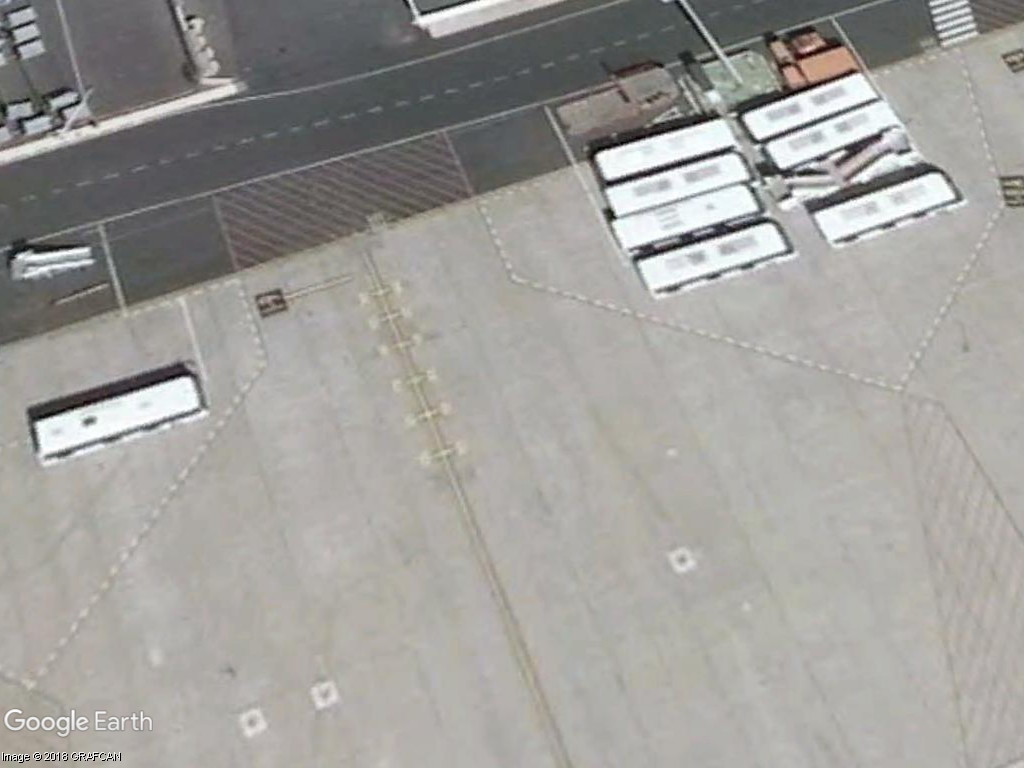bus: (25, 361, 217, 465), (626, 221, 799, 296), (731, 70, 896, 143), (583, 116, 742, 186)
stairtruck: (827, 124, 926, 187), (1, 237, 97, 286), (757, 166, 842, 213)
